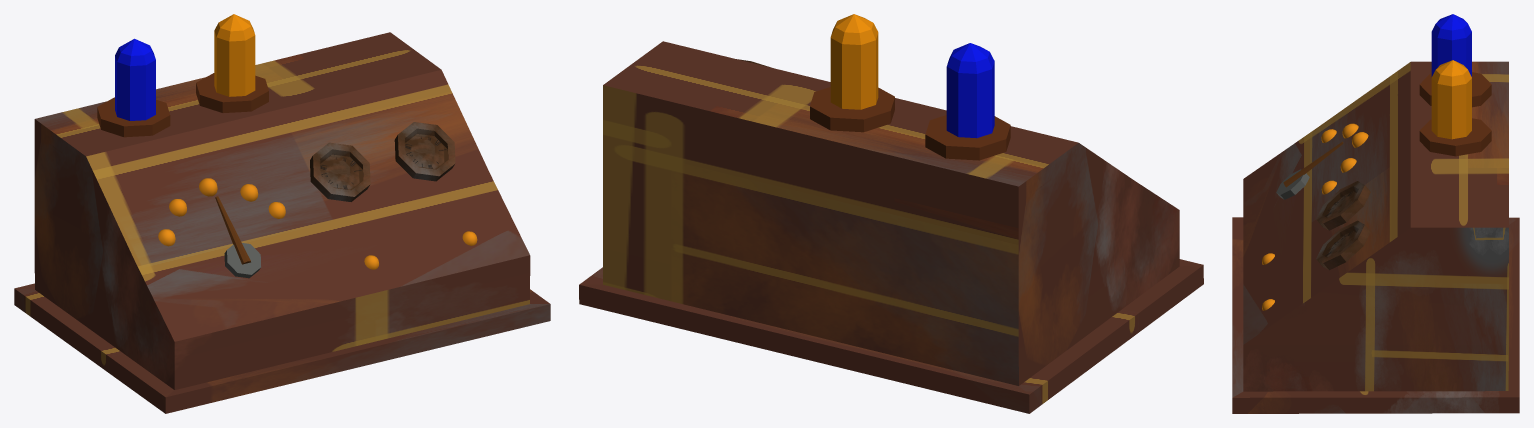
File: Maschinegrün2.fbx
3 renders of one model, left to right at view 1: azimuth 30°, elevation 25°; view 2: azimuth 150°, elevation 25°; view 3: azimuth 270°, elevation 25°, orthographic. The views are drawn at different scales.
Visible parts, largest first — view 1: Cube, Cylinder.027, Cylinder.026, Cylinder.022, Cylinder.023, Cylinder.025, Cylinder.024, Cylinder.006, Cylinder.020; view 2: Cube, Cylinder.027, Cylinder.026, Cylinder.024, Cylinder.025; view 3: Cube, Cylinder.027, Cylinder.026, Cylinder.025, Cylinder.023, Cylinder.022, Cylinder.024, Cylinder.006, Cylinder.020.
Boxes of the visible parts, left/top/right/bottom form: Cube: left=14, top=32, right=550, bottom=413; Cylinder.027: left=214, top=14, right=255, bottom=96; Cylinder.026: left=115, top=38, right=155, bottom=120; Cylinder.022: left=310, top=142, right=370, bottom=201; Cylinder.023: left=394, top=122, right=455, bottom=181; Cylinder.025: left=196, top=73, right=268, bottom=112; Cylinder.024: left=97, top=97, right=170, bottom=137; Cylinder.006: left=224, top=243, right=260, bottom=278; Cylinder.020: left=215, top=196, right=250, bottom=264; Cube: left=579, top=41, right=1203, bottom=413; Cylinder.027: left=830, top=14, right=878, bottom=109; Cylinder.026: left=946, top=43, right=994, bottom=138; Cylinder.024: left=925, top=115, right=1010, bottom=160; Cylinder.025: left=810, top=87, right=894, bottom=132; Cube: left=1232, top=61, right=1519, bottom=413; Cylinder.027: left=1431, top=60, right=1471, bottom=139; Cylinder.026: left=1431, top=14, right=1471, bottom=76; Cylinder.025: left=1419, top=118, right=1491, bottom=156; Cylinder.023: left=1316, top=220, right=1370, bottom=270; Cylinder.022: left=1316, top=181, right=1370, bottom=230; Cylinder.024: left=1419, top=72, right=1491, bottom=107; Cylinder.006: left=1276, top=169, right=1309, bottom=199; Cylinder.020: left=1283, top=141, right=1343, bottom=187.
Size of the model in its own units: 869 by 584 by 586.
